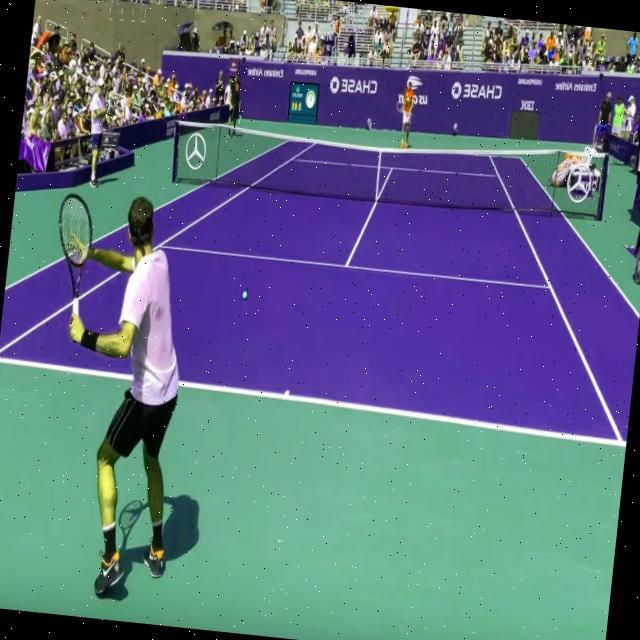court: (0, 143, 640, 464)
net: (165, 100, 608, 224)
player: (23, 162, 212, 604)
